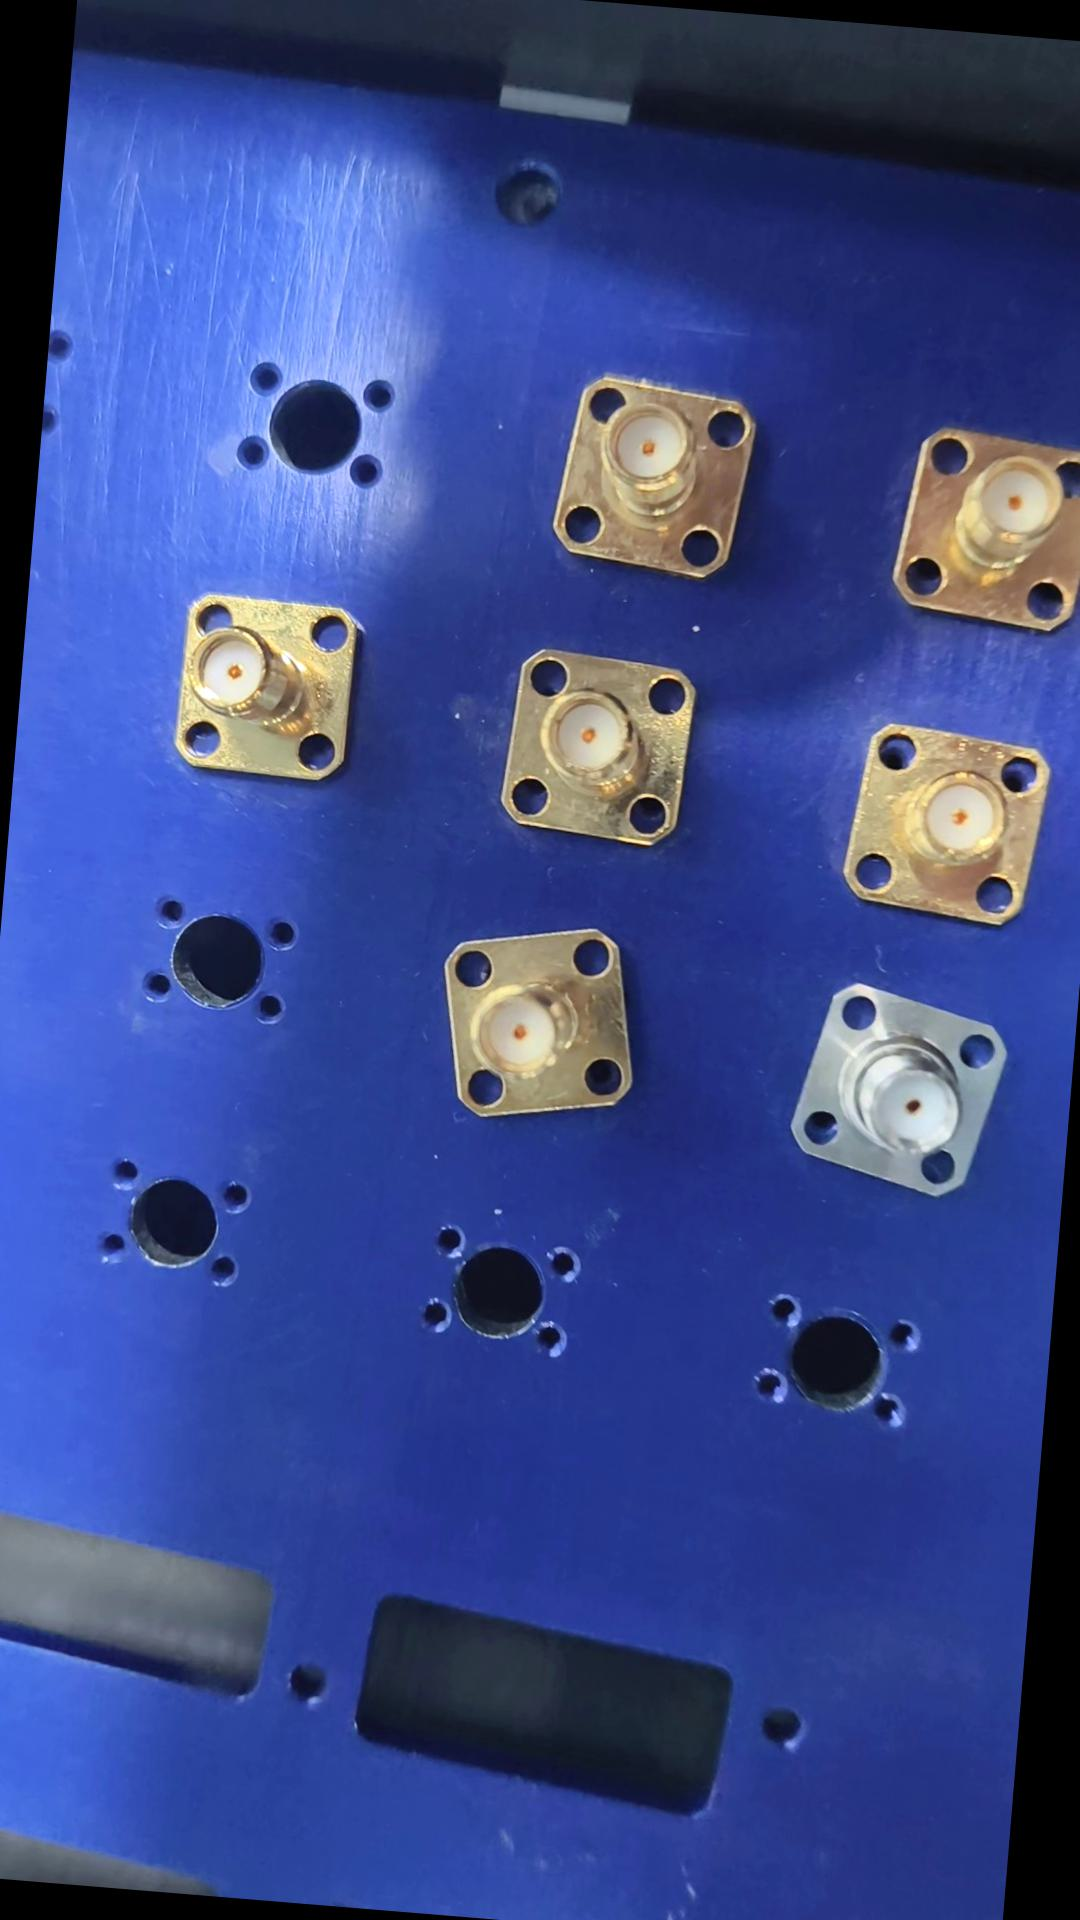SMA: (764, 969, 1007, 1209), (825, 713, 1044, 942), (419, 911, 644, 1131), (477, 644, 704, 861), (533, 368, 762, 579), (873, 434, 1079, 644), (156, 584, 363, 789)
